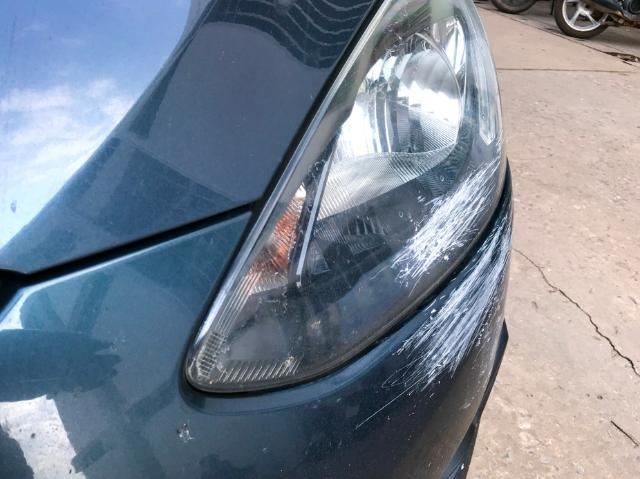Bumper: (308, 186, 540, 479)
Light: (185, 0, 517, 388)
